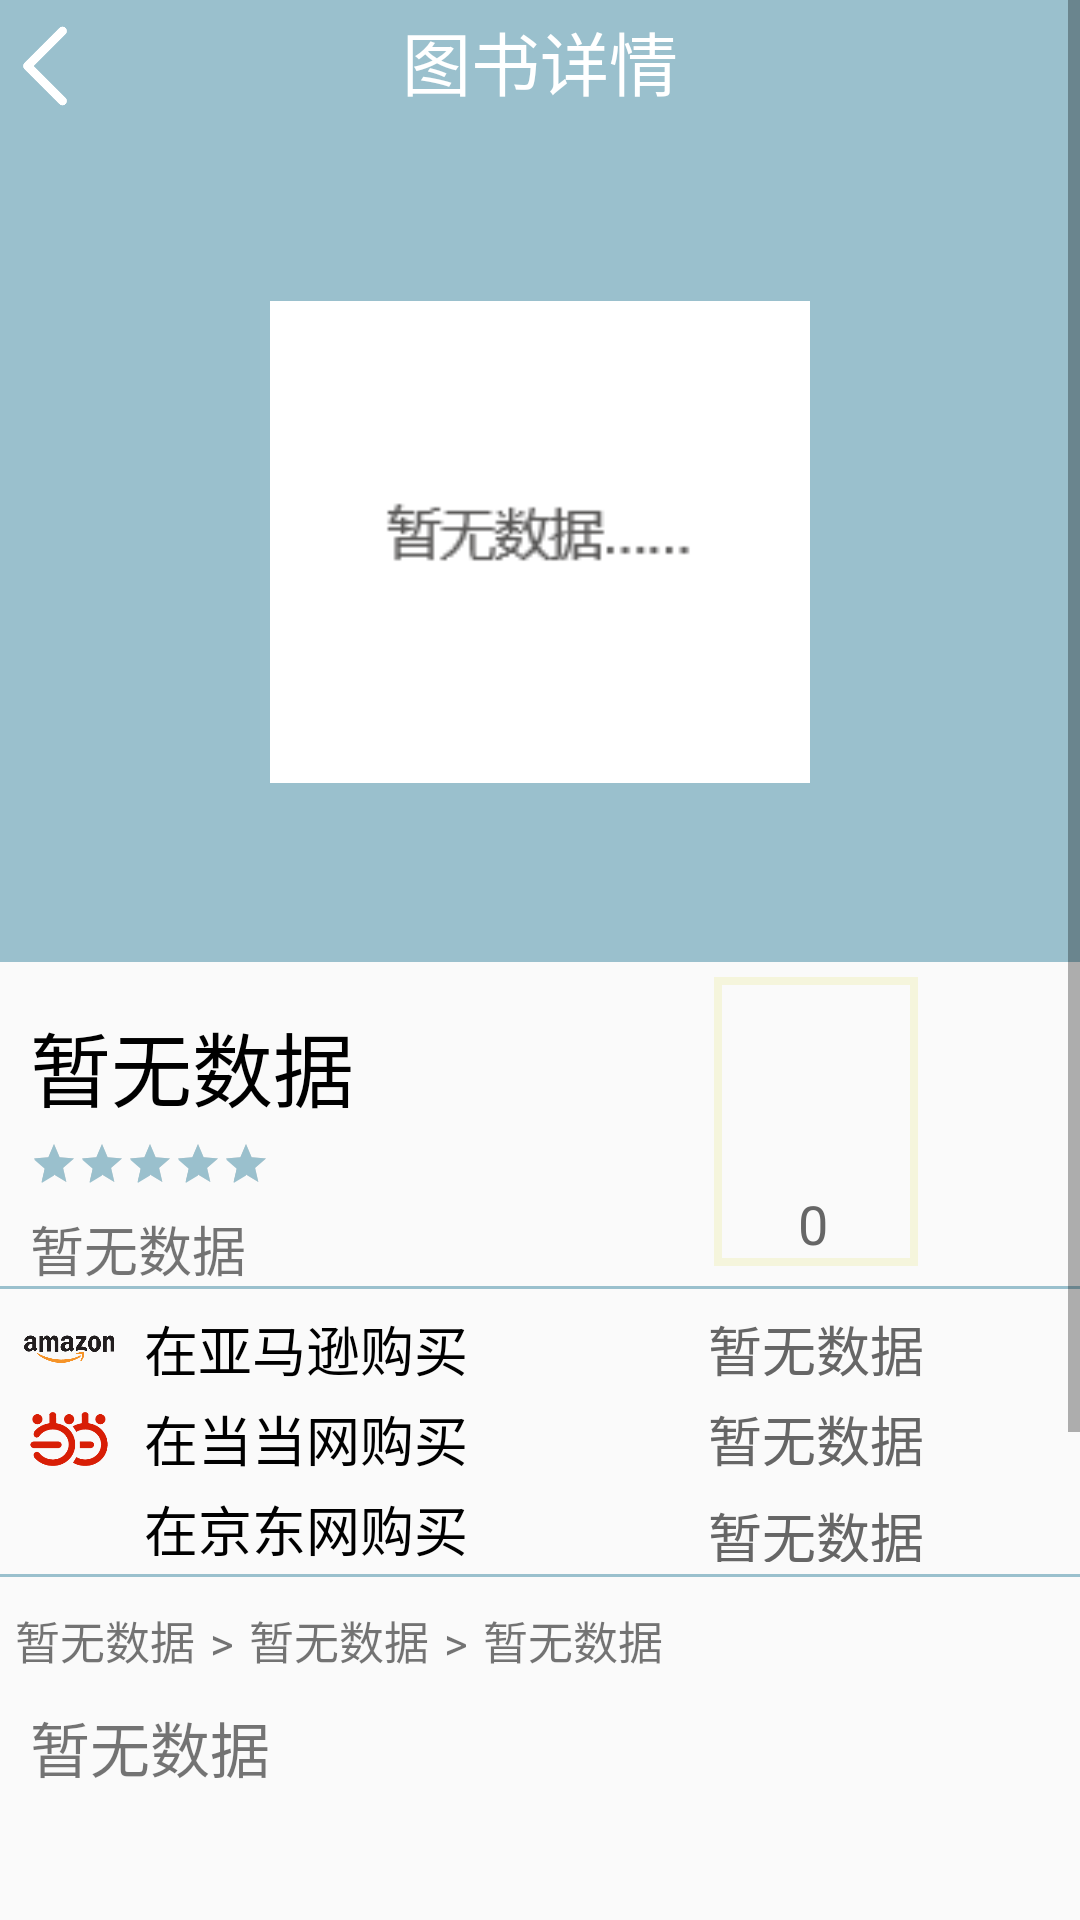

Point at icon controls on the screen. Image size 1080px x 1920px, points as (x=x, y=y).
returnw: (x=45, y=66)
